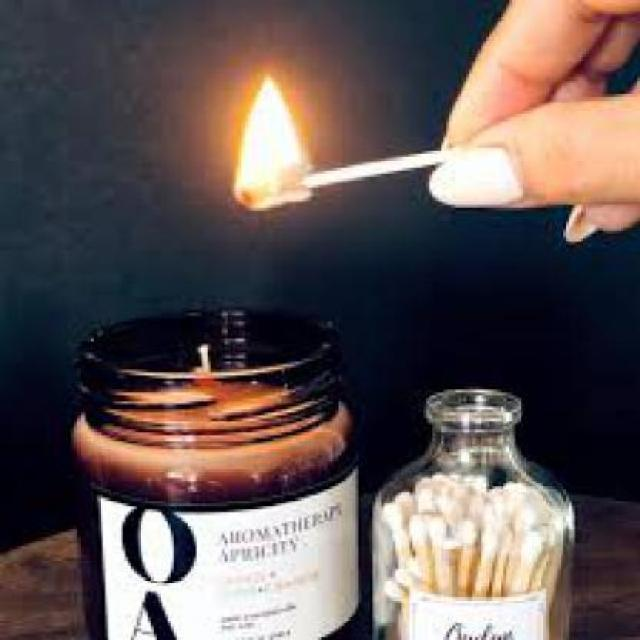Fire: (226, 73, 320, 210)
